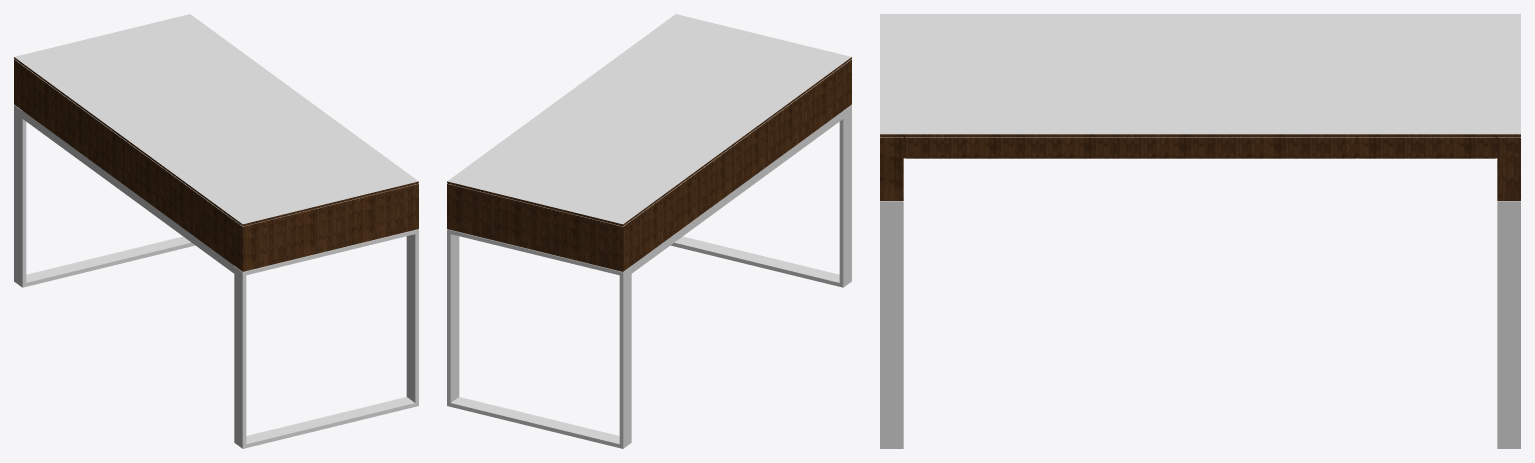
3 renders of one model, left to right at view 1: azimuth 30°, elevation 25°; view 2: azimuth 150°, elevation 25°; view 3: azimuth 270°, elevation 25°, orthographic. The views are drawn at different scales.
Visible parts, largest first — view 1: Mesh1_Model; view 2: Mesh1_Model; view 3: Mesh1_Model.
Boxes of the visible parts, x1,y1,x2,y2 form: Mesh1_Model: (14,14,418,448); Mesh1_Model: (447,14,851,448); Mesh1_Model: (880,14,1520,448).
Size of the model in its own units: 0.4478 by 0.5457 by 1.01.
Materials: 2 (2 with a texture image).
